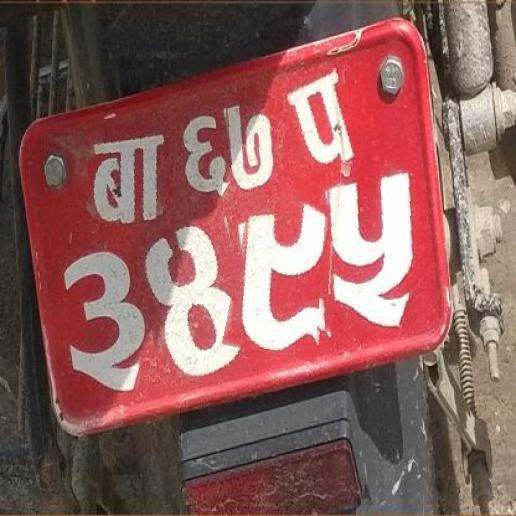3: (57, 243, 149, 400)
4: (139, 217, 248, 382)
5: (320, 164, 421, 335)
6: (178, 109, 233, 212)
7: (223, 94, 278, 199)
9: (229, 194, 339, 359)
ba: (84, 121, 170, 230)
pa: (284, 69, 357, 174)
